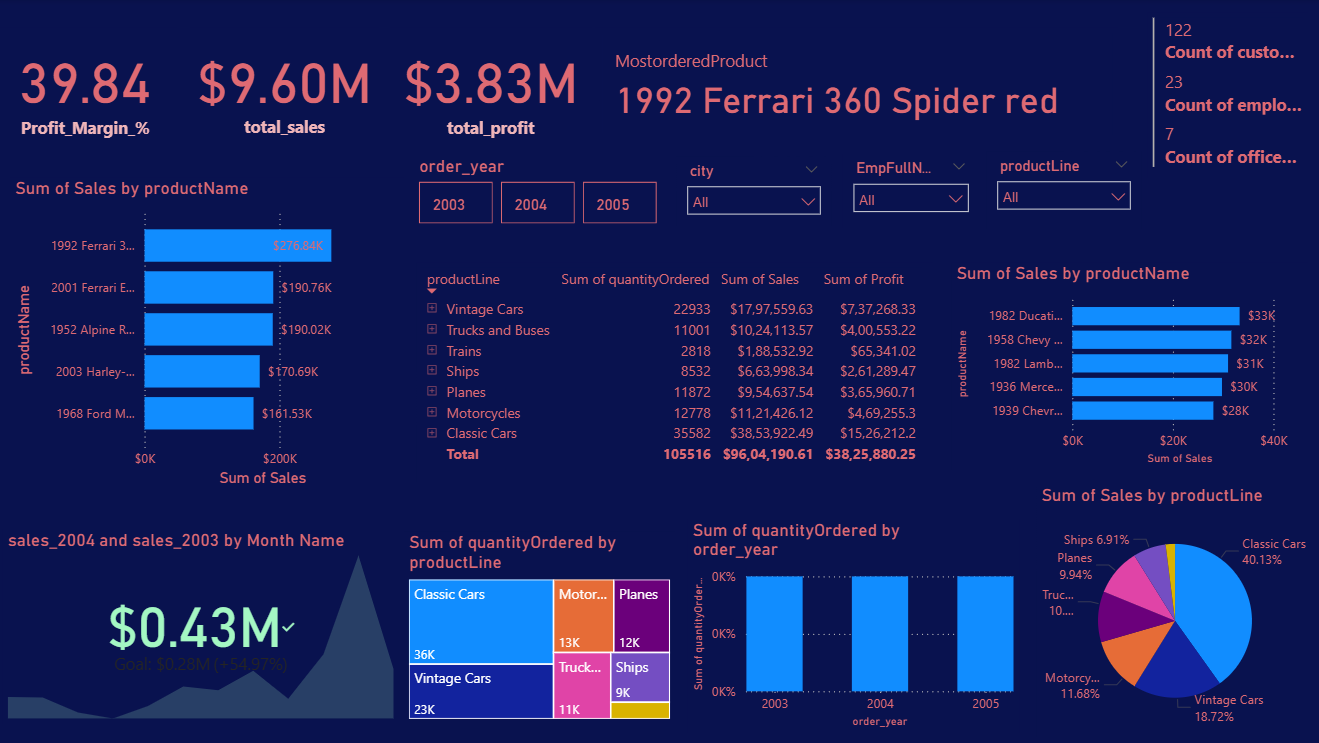

Layout of this report page (visuals, bound fields, positions):
{"tool":"powerbi","page":{"name":"Page 1","canvas":[1280,720],"ordinal":0},"visuals":[{"type":"cardVisual","fields":{"Data":["order details.MostorderedProduct"]},"box":[580.3,27.7,504.3,108.6],"z":0},{"type":"barChart","fields":{"Y":["order details.Sales"],"Category":["products.productName"]},"box":[15.9,172.4,380.3,303.3],"z":1000},{"type":"pieChart","fields":{"Category":["products.productLine"],"Y":["order details.Sales"]},"box":[1006.2,468.1,267.8,243.7],"z":2000},{"type":"pivotTable","fields":{"Rows":["products.productLine","products.productName"],"Values":["order details.quantityOrdered","order details.Sales","order details.Profit"]},"box":[407.8,254.6,498.3,211.1],"z":3000},{"type":"advancedSlicerVisual","fields":{"Values":["orders.order_year"]},"box":[405.4,150.8,240.1,71.2],"z":4000},{"type":"multiRowCard","fields":{"Values":["customers.customerNumber","employees.employeeNumber","offices.officeCode"]},"box":[1113.5,13.3,154.4,159.3],"z":5000},{"type":"kpi","fields":{"Goal":["orders.sales_2003"],"TrendLine":["orders.Month Name"],"Indicator":["orders.sales_2004"]},"box":[8.4,511.5,382.4,188.2],"z":6000},{"type":"treemap","fields":{"Group":["productlines.productLine"],"Values":["order details.quantityOrdered"]},"box":[396.2,513.6,261.7,185.9],"z":7000},{"type":"hundredPercentStackedColumnChart","fields":{"Y":["order details.quantityOrdered"],"Category":["orders.order_year"]},"box":[669.6,501.9,319.7,206.3],"z":8000},{"type":"card","fields":{"Values":["classicmodels.Profit_Margin_%"]},"box":[0,27.7,176.1,115.8],"z":9000},{"type":"card","fields":{"Values":["order details.total_profit"]},"box":[382.4,27.7,194.2,115.8],"z":10000},{"type":"card","fields":{"Values":["order details.total_sales"]},"box":[189.4,27.7,182.2,114.6],"z":11000},{"type":"slicer","fields":{"Values":["employees.EmpFullName"]},"box":[819.2,149.6,131.5,71.2],"z":12000},{"type":"slicer","fields":{"Values":["offices.city"]},"box":[658.7,152,149.6,67.6],"z":13000},{"type":"slicer","fields":{"Values":["productlines.productLine"]},"box":[957.9,147.2,149.6,74.8],"z":14000},{"type":"barChart","fields":{"Y":["order details.Sales"],"Category":["products.productName"]},"box":[924.1,254.6,343.8,200.3],"z":15000}]}

Visuals, with their boxes in screenshot pixels (x1, y1, x2, y2), scaled from the page's 1280x720 canvas onto the 1319x743 screenshot:
cardVisual - order details.MostorderedProduct: <region>598, 29, 1118, 141</region>
barChart - order details.Sales x products.productName: <region>16, 178, 408, 491</region>
pieChart - products.productLine x order details.Sales: <region>1037, 483, 1313, 735</region>
pivotTable - products.productLine x products.productName: <region>420, 263, 934, 481</region>
advancedSlicerVisual - orders.order_year: <region>418, 156, 665, 229</region>
multiRowCard - customers.customerNumber x employees.employeeNumber: <region>1147, 14, 1307, 178</region>
kpi - orders.sales_2003 x orders.Month Name: <region>9, 528, 403, 722</region>
treemap - productlines.productLine x order details.quantityOrdered: <region>408, 530, 678, 722</region>
hundredPercentStackedColumnChart - order details.quantityOrdered x orders.order_year: <region>690, 518, 1019, 731</region>
card - classicmodels.Profit_Margin_%: <region>0, 29, 181, 148</region>
card - order details.total_profit: <region>394, 29, 594, 148</region>
card - order details.total_sales: <region>195, 29, 383, 147</region>
slicer - employees.EmpFullName: <region>844, 154, 980, 228</region>
slicer - offices.city: <region>679, 157, 833, 227</region>
slicer - productlines.productLine: <region>987, 152, 1141, 229</region>
barChart - order details.Sales x products.productName: <region>952, 263, 1307, 469</region>
